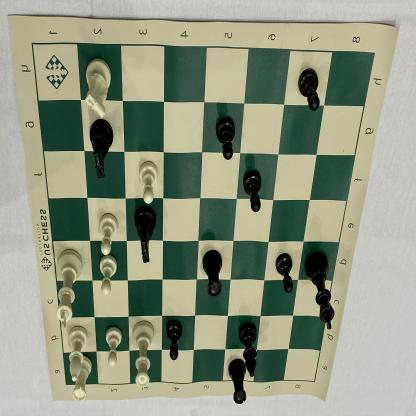black-bishop: (238, 320, 260, 381)
black-king: (303, 251, 337, 332)
black-knight: (87, 117, 116, 182), (132, 204, 160, 266)
black-pawn: (213, 113, 237, 164), (296, 64, 321, 112), (274, 249, 297, 296), (242, 168, 264, 216), (164, 317, 184, 363)
black-rook: (201, 246, 224, 300), (227, 356, 248, 410)
white-bishop: (64, 322, 91, 388)
white-king: (53, 247, 87, 330)
white-knight: (81, 55, 116, 120)
white-pawn: (96, 211, 121, 258), (136, 158, 160, 206), (97, 251, 119, 298), (103, 324, 124, 369)
white-queen: (132, 316, 158, 393)
white-rook: (70, 354, 94, 405)
